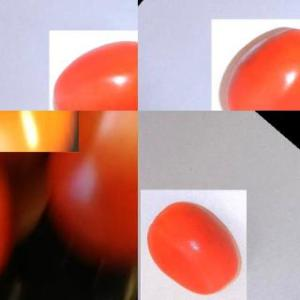tomato: (45, 111, 137, 281), (142, 189, 246, 299), (210, 19, 300, 109), (50, 30, 138, 110)
